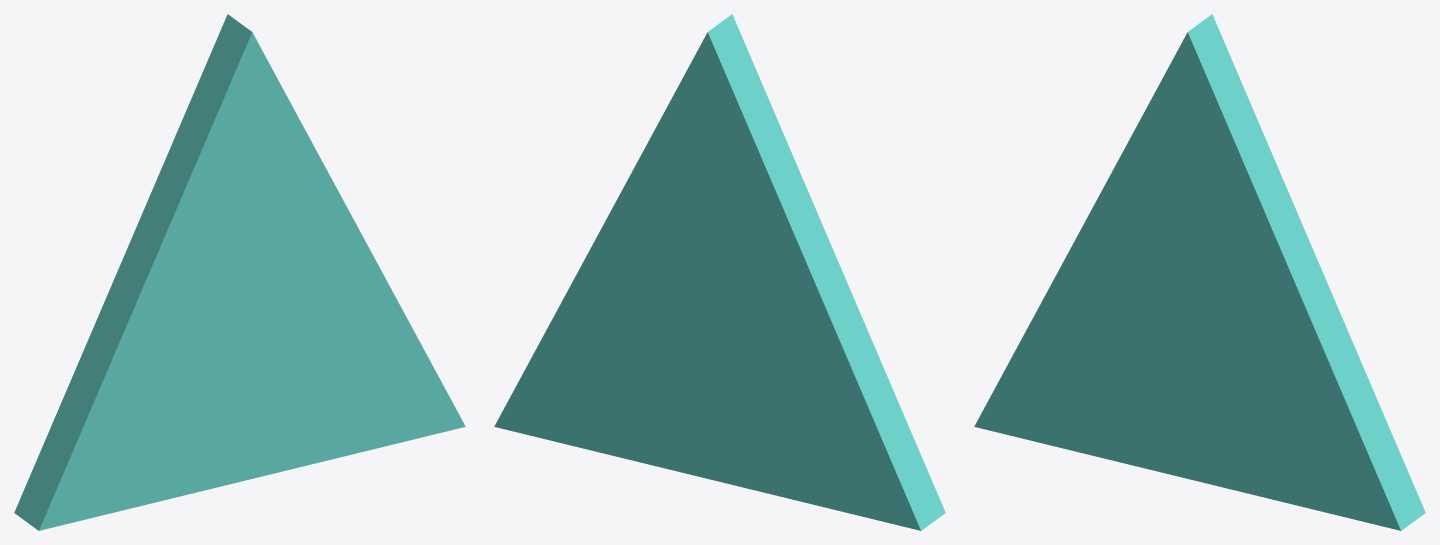
Rendered from triangolo_isoscele_piccolo.glb.
3 renders of one model, left to right at view 1: azimuth 30°, elevation 25°; view 2: azimuth 150°, elevation 25°; view 3: azimuth 330°, elevation 25°, orthographic.
Parts seen in each view (by area): view 1: triangolo_isoscele_piccolo; view 2: triangolo_isoscele_piccolo; view 3: triangolo_isoscele_piccolo.
Part boxes in pixels (x1=…): triangolo_isoscele_piccolo: x1=14, y1=14, x2=465, y2=530; triangolo_isoscele_piccolo: x1=494, y1=14, x2=945, y2=530; triangolo_isoscele_piccolo: x1=974, y1=14, x2=1425, y2=530.
Bounding box in the file's own units: 0.5 × 0.5 × 0.05.
